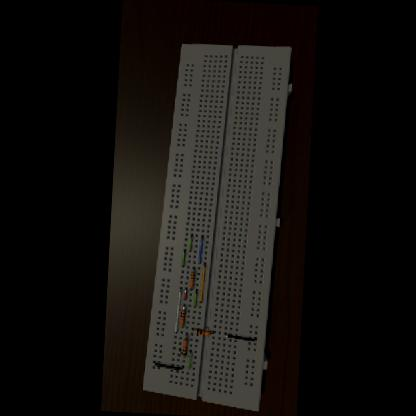breadboard: (140, 40, 292, 411)
resistor: (194, 328, 209, 336), (180, 338, 186, 356), (178, 309, 184, 325), (188, 271, 193, 287)
wire: (224, 332, 256, 342), (152, 360, 182, 370), (174, 286, 180, 333), (198, 262, 204, 302), (197, 234, 202, 263), (186, 350, 190, 370), (192, 289, 196, 308), (180, 248, 184, 266), (187, 234, 191, 250), (182, 288, 185, 300), (178, 347, 180, 356), (191, 328, 194, 332), (182, 304, 184, 310), (209, 331, 212, 334), (184, 332, 185, 338), (180, 326, 181, 328), (192, 266, 192, 272), (190, 287, 190, 289), (182, 356, 182, 358)
